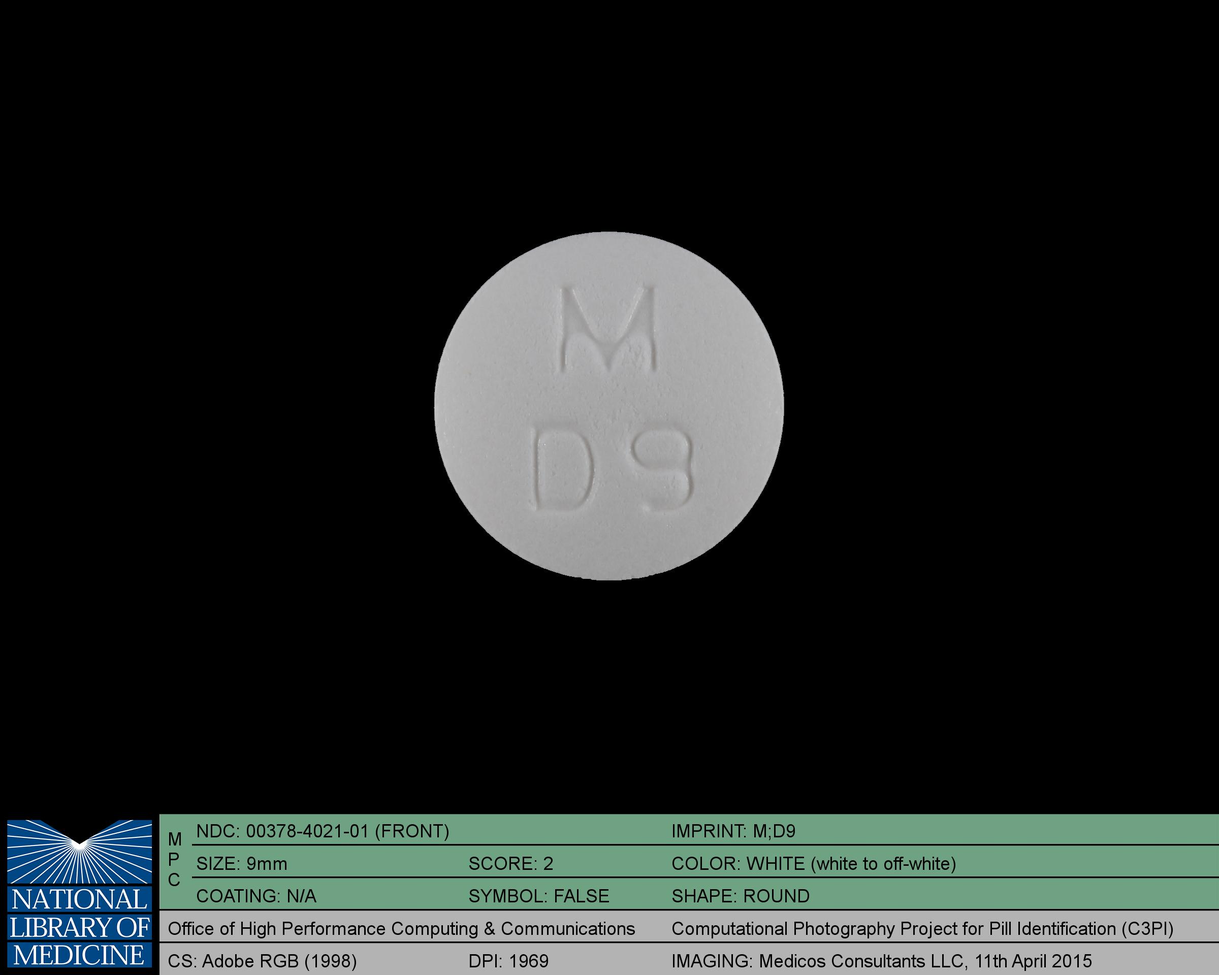Pill: (423, 218, 796, 589)
